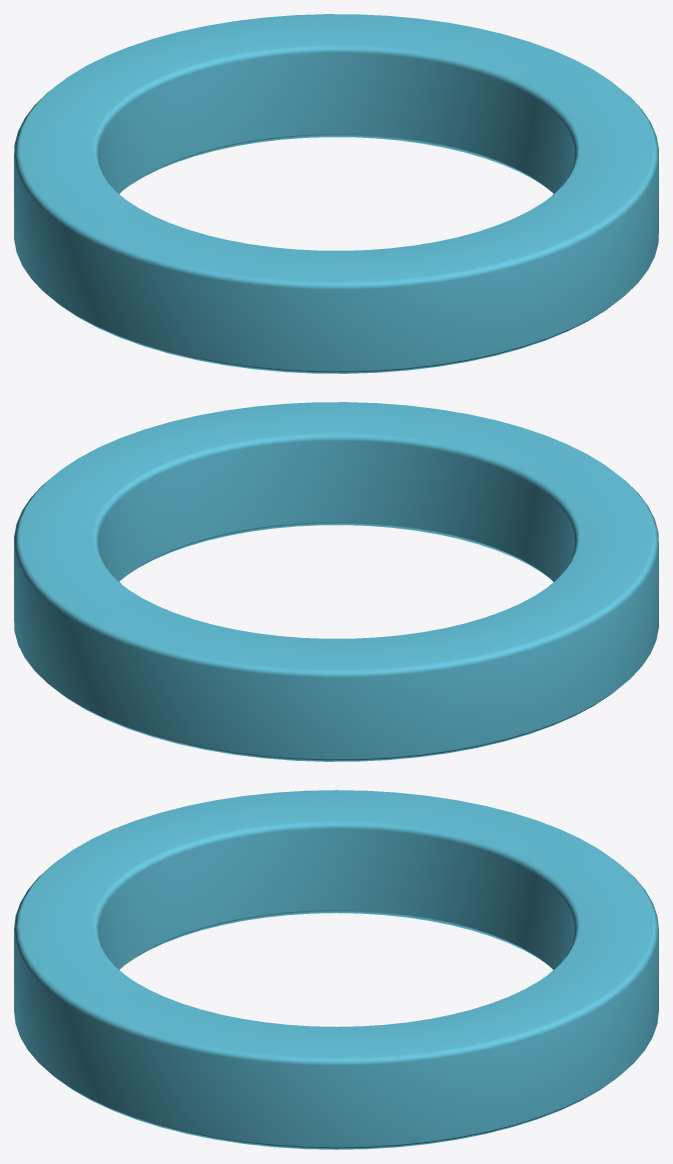
3 renders of one model, top to bottom at view 1: azimuth 30°, elevation 25°; view 2: azimuth 150°, elevation 25°; view 3: azimuth 270°, elevation 25°, orthographic.
Parts seen in each view (by area): view 1: seal_body; view 2: seal_body; view 3: seal_body.
Boxes of the visible parts, <box> form: seal_body: <box>14,14,658,373</box>; seal_body: <box>14,402,658,761</box>; seal_body: <box>14,790,658,1149</box>.
Size of the model in its own units: 0.038 by 0.006 by 0.038.
